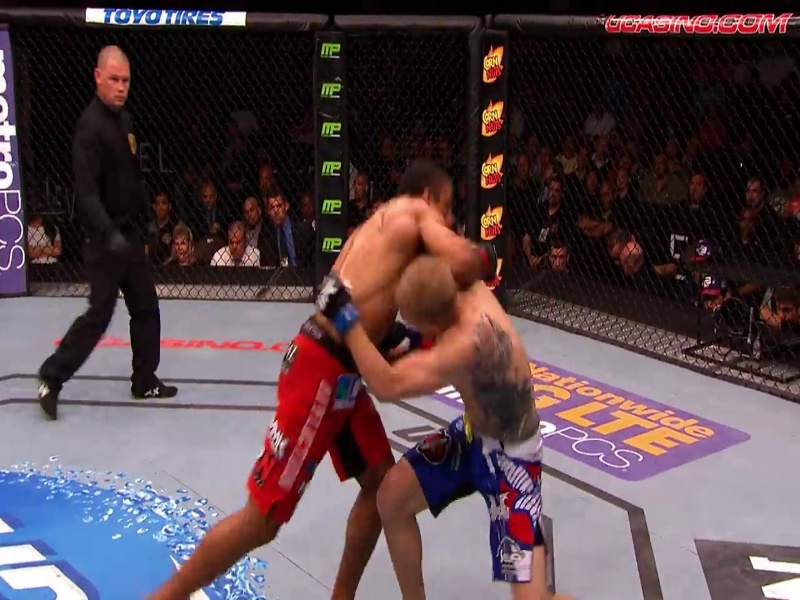fighter: (144, 171, 498, 600), (311, 255, 559, 600)
